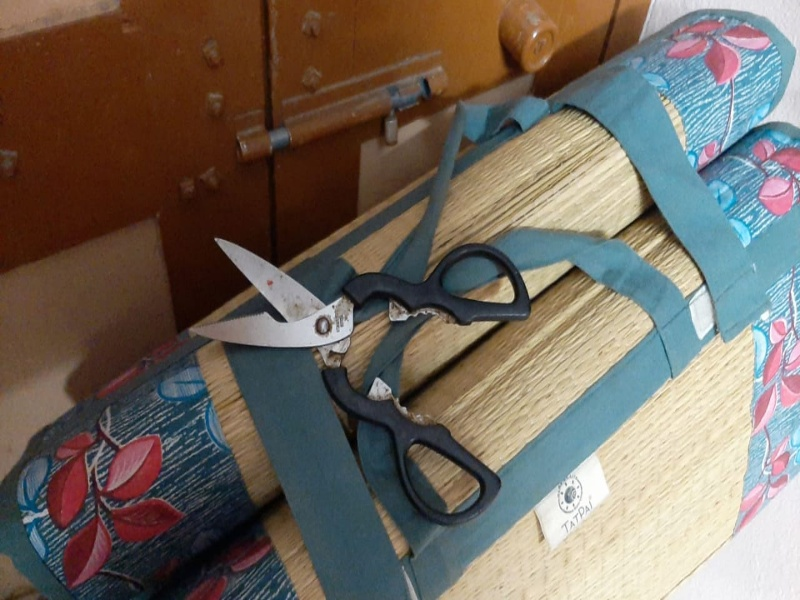scissor: (185, 222, 529, 534)
